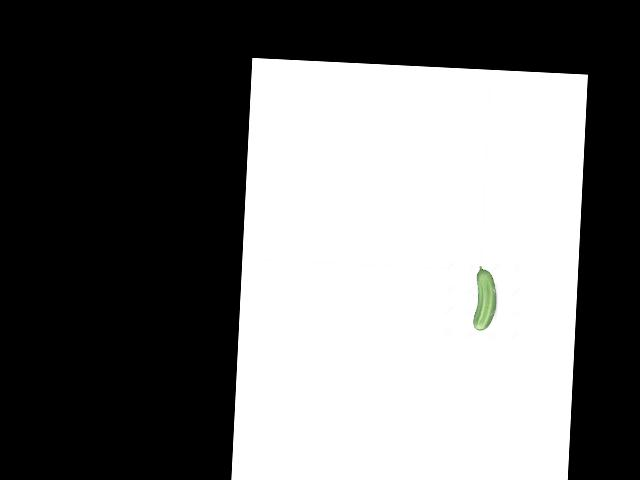cucumber: (473, 266, 498, 331)
